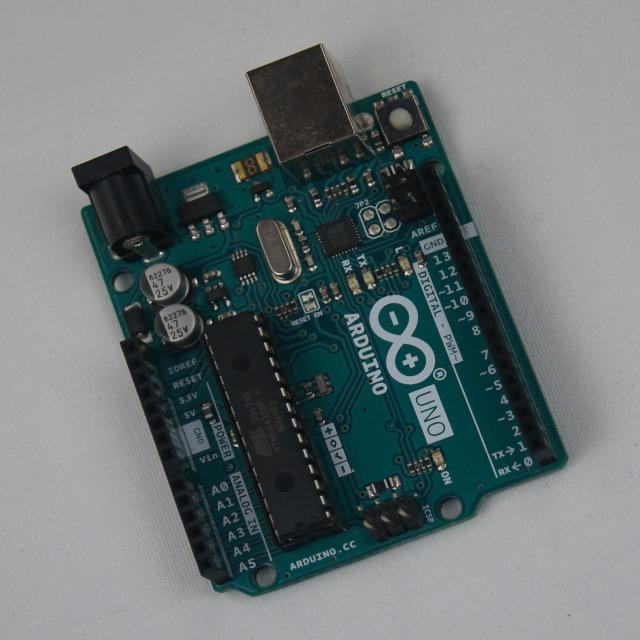Arduino Uno -Green-: (74, 46, 567, 594)
